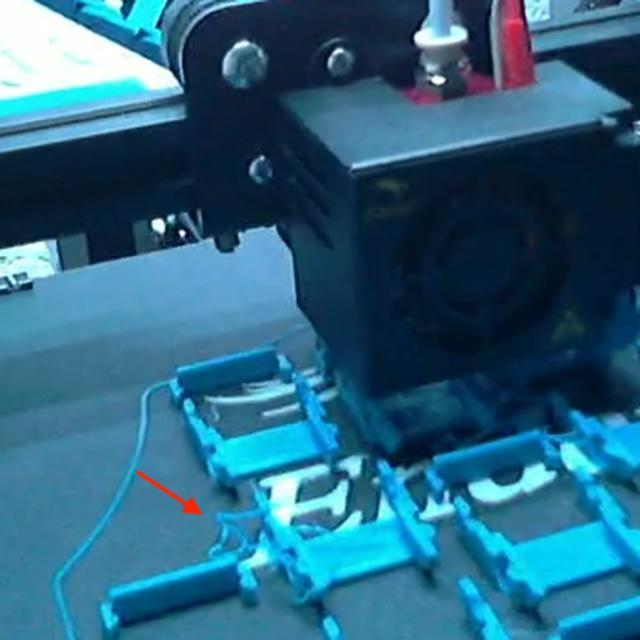Spaghetti: (206, 500, 296, 570)
